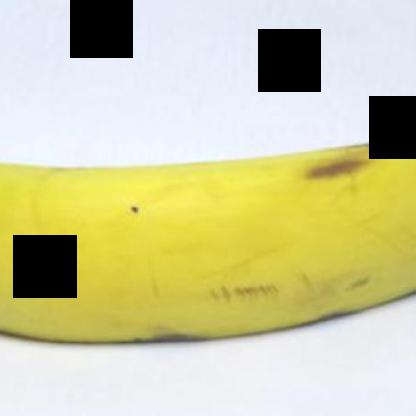freshripe: (1, 92, 415, 363)
